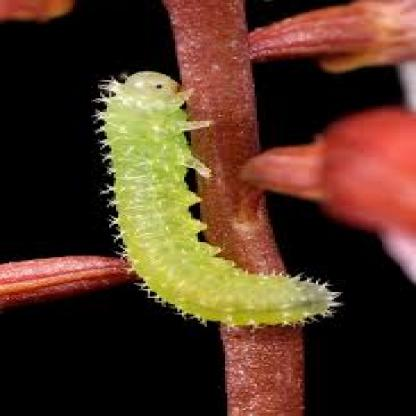sawfly: (87, 64, 352, 335)
